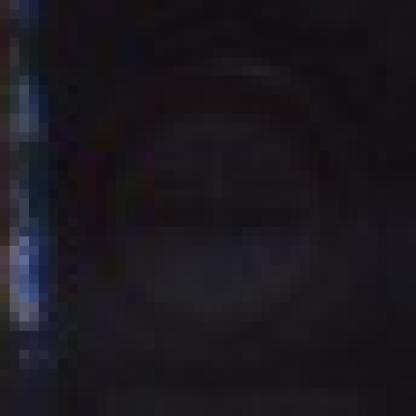No Overtaking: (59, 48, 369, 370)
